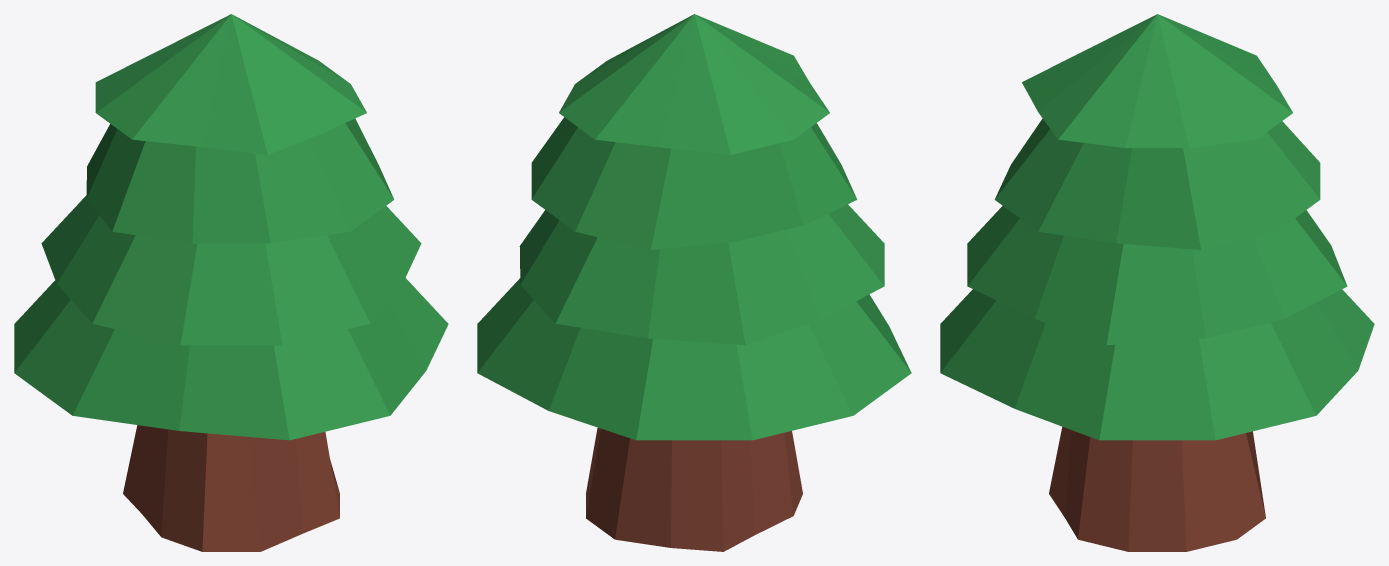
Rendered from pokemon_tree.glb.
3 views of the same model, side by side, from view 1: azimuth 30°, elevation 25°; view 2: azimuth 150°, elevation 25°; view 3: azimuth 270°, elevation 25° (orthographic).
Parts seen in each view (by area): view 1: cylinder (×5); view 2: cylinder (×5); view 3: cylinder (×5).
Part boxes in pixels (x1,y1,x2,y2): cylinder (×5): (14,14,448,551); cylinder (×5): (477,14,911,551); cylinder (×5): (940,14,1374,551).
Size of the model in its own units: 4 by 5 by 4.
Materials: 1 (1 with a texture image).
